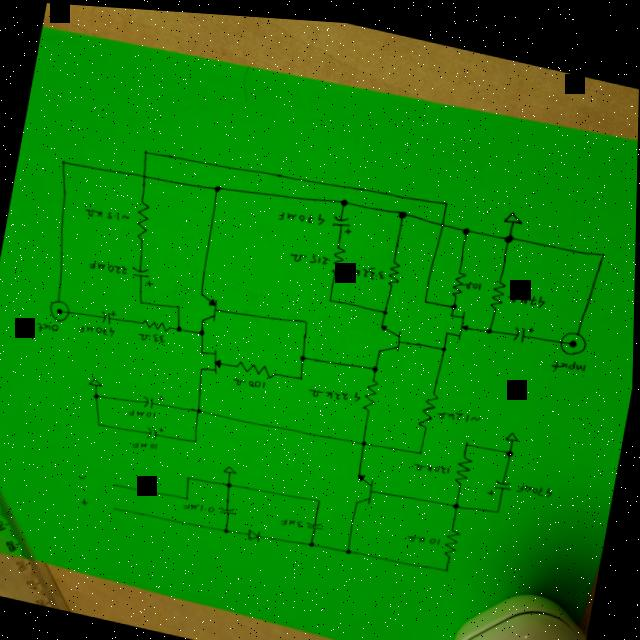capacitor: (488, 469, 518, 496), (129, 262, 160, 288), (510, 315, 538, 341), (141, 387, 168, 412), (98, 303, 122, 326), (331, 209, 356, 231), (146, 422, 169, 442), (218, 499, 240, 517), (309, 515, 326, 530)
crossover: (138, 169, 150, 182), (439, 215, 448, 224)
diode: (246, 521, 267, 542)
ground: (502, 201, 526, 221), (506, 424, 523, 438), (225, 461, 240, 474), (90, 376, 106, 388)
junction: (504, 226, 517, 239), (57, 157, 69, 169), (340, 193, 351, 205), (399, 205, 410, 216), (213, 182, 224, 192), (463, 220, 473, 231), (454, 495, 464, 505), (507, 442, 517, 452), (372, 359, 382, 369), (346, 542, 356, 552), (487, 320, 496, 330), (225, 523, 234, 533), (142, 147, 152, 156), (300, 350, 309, 359), (310, 536, 319, 545), (419, 443, 428, 452), (362, 434, 371, 443), (445, 560, 454, 569), (600, 243, 609, 252), (442, 339, 450, 348), (304, 314, 312, 323), (496, 501, 504, 510), (452, 297, 460, 306), (95, 392, 103, 400), (197, 405, 205, 413), (185, 492, 193, 500), (176, 324, 185, 331), (444, 194, 451, 202), (424, 292, 431, 300), (383, 304, 390, 311), (329, 292, 336, 299), (300, 371, 307, 378), (200, 327, 207, 334), (466, 434, 473, 441), (98, 420, 105, 427), (194, 436, 201, 443), (228, 479, 235, 486), (318, 494, 325, 500), (177, 303, 184, 308), (140, 299, 146, 304), (187, 474, 193, 479)
resistor: (235, 355, 280, 378), (419, 383, 442, 426), (134, 197, 155, 242), (361, 373, 383, 410), (454, 449, 476, 482), (489, 272, 510, 305), (444, 521, 464, 554), (451, 262, 470, 295), (330, 240, 349, 271), (387, 254, 404, 284), (142, 316, 172, 333)
terminal: (558, 321, 591, 354), (48, 296, 73, 324), (113, 479, 122, 488), (113, 504, 120, 512)
text: (310, 378, 363, 402), (278, 202, 327, 226), (15, 315, 64, 338), (85, 203, 133, 225), (344, 257, 387, 280), (516, 472, 557, 496), (439, 401, 483, 422), (551, 348, 589, 370), (290, 245, 330, 265), (510, 283, 548, 304), (89, 258, 131, 276), (78, 320, 117, 338), (415, 454, 453, 472), (408, 525, 444, 543), (235, 372, 268, 389), (185, 498, 218, 513), (139, 328, 168, 345), (129, 406, 159, 420), (133, 437, 161, 451), (282, 513, 306, 526), (465, 273, 485, 287), (79, 473, 90, 484), (82, 496, 92, 507)
transistor: (441, 302, 475, 339), (352, 466, 382, 506), (196, 342, 229, 378), (195, 285, 224, 325), (376, 317, 406, 353)
